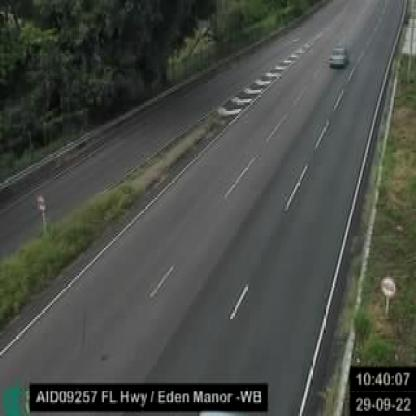Car: (328, 43, 351, 70)
